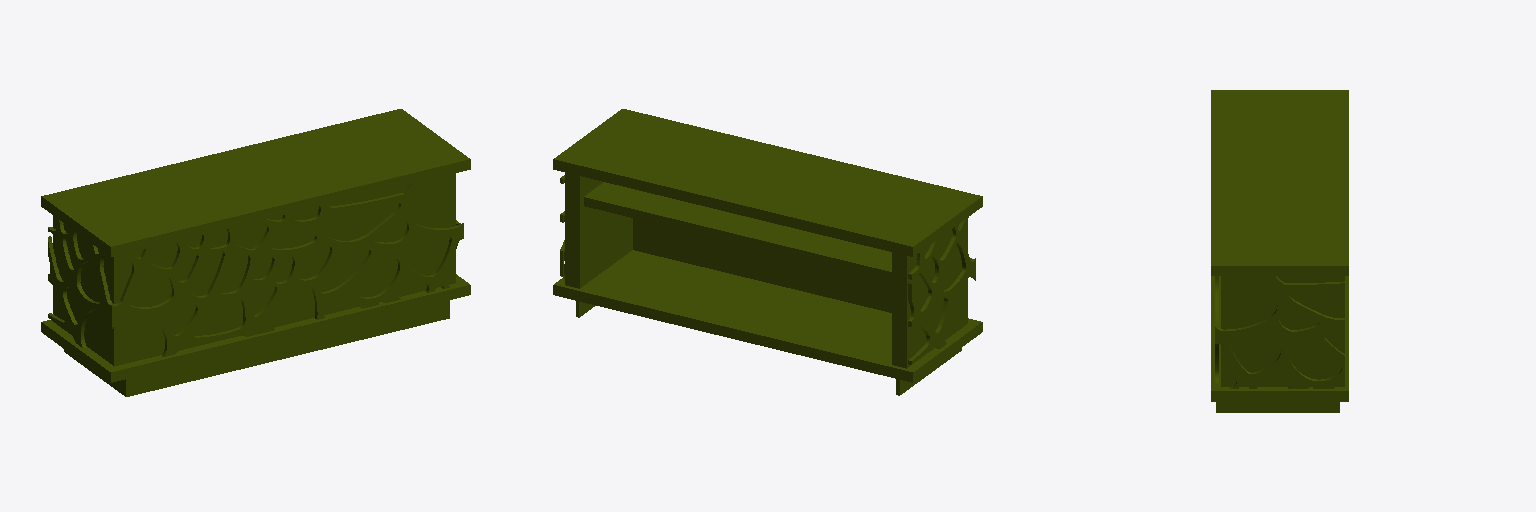
The model's file is Table_1_obj.obj.
The picture shows the model from 3 angles: view 1: azimuth 30°, elevation 25°; view 2: azimuth 150°, elevation 25°; view 3: azimuth 270°, elevation 25°; orthographic projection.
Parts seen in each view (by area): view 1: Table_1_7, Table_1_4, Table_1_2, Table_1_8, Table_1_1; view 2: Table_1_8, Table_1_7, Table_1_6, Table_1_4, Table_1_2, Table_1_1; view 3: Table_1_7, Table_1_4, Table_1_2, Table_1_8, Table_1_1.
Part boxes in pixels (x1,y1,x2,y2): Table_1_7: (41, 109, 470, 256); Table_1_4: (53, 173, 455, 366); Table_1_2: (48, 182, 463, 356); Table_1_8: (41, 274, 470, 382); Table_1_1: (64, 300, 449, 396); Table_1_8: (553, 182, 982, 382); Table_1_7: (553, 109, 982, 256); Table_1_6: (567, 173, 904, 367); Table_1_4: (565, 173, 967, 368); Table_1_2: (560, 175, 975, 364); Table_1_1: (576, 301, 961, 395); Table_1_7: (1211, 90, 1348, 275); Table_1_4: (1221, 276, 1344, 386); Table_1_2: (1215, 276, 1344, 388); Table_1_8: (1211, 276, 1348, 401); Table_1_1: (1216, 402, 1339, 412).
Size of the model in its own units: 1.33 by 0.5541 by 0.4444.